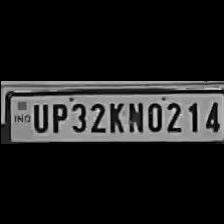0: (142, 98, 162, 132)
1: (182, 98, 200, 132)
2: (163, 98, 183, 132), (86, 98, 104, 132)
3: (67, 98, 87, 132)
4: (200, 97, 222, 131)
K: (105, 98, 124, 132)
N: (124, 98, 142, 132)
P: (47, 100, 66, 132)
U: (27, 100, 47, 132)
